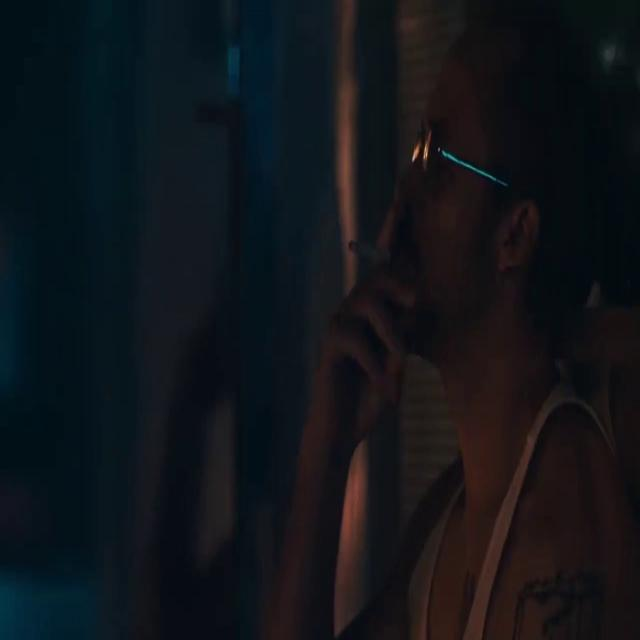Smooking: (341, 233, 380, 267)
